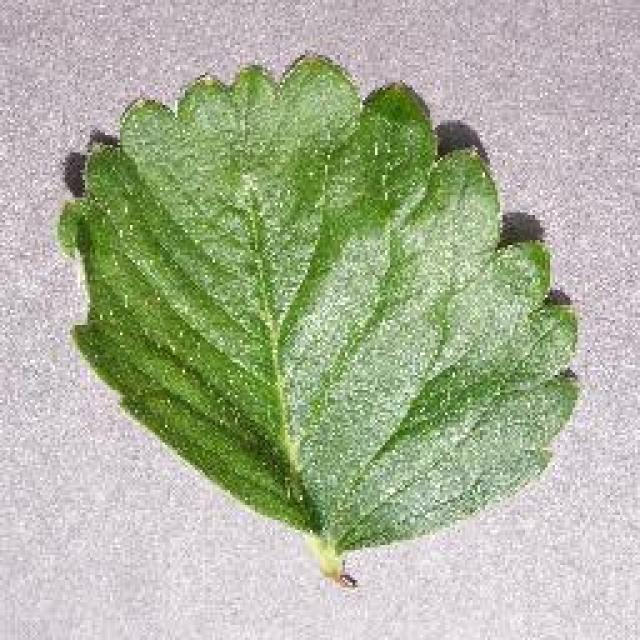Strawberry___healthy: (45, 32, 593, 602)
